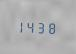eight: (45, 20, 53, 34)
four: (27, 19, 35, 33)
one: (18, 19, 26, 33)
three: (36, 19, 44, 34)
